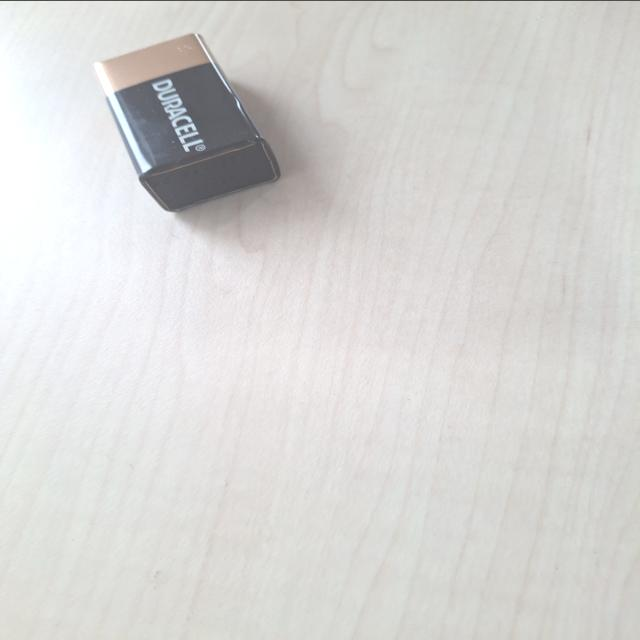9V: (45, 430, 281, 570)
